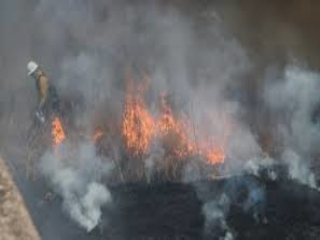fire: (115, 82, 225, 165)
smoke: (252, 66, 318, 177), (47, 146, 113, 230), (189, 176, 273, 237)
